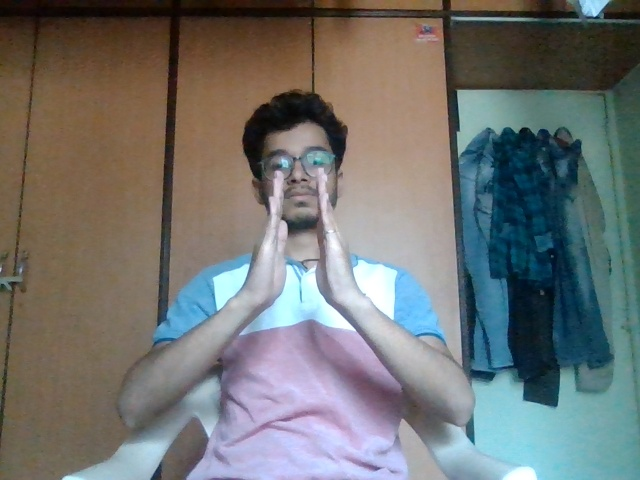morning: (245, 158, 385, 332)
